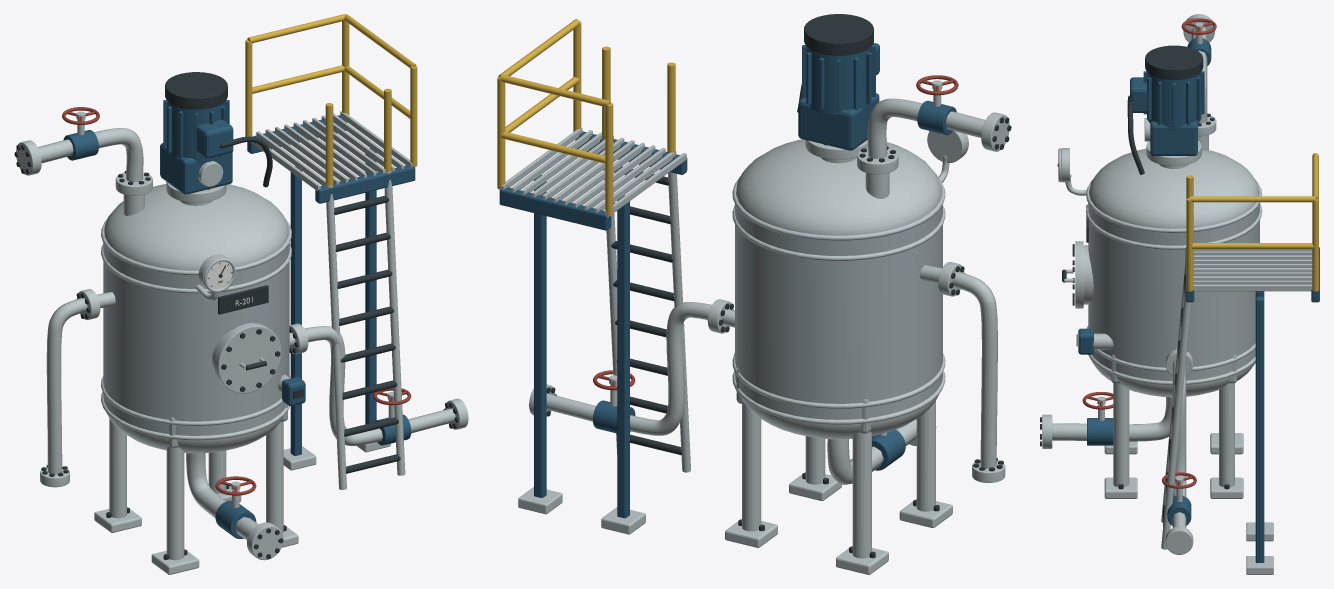
File: tep.glb
3 views of the same model, side by side, from view 1: azimuth 30°, elevation 25°; view 2: azimuth 150°, elevation 25°; view 3: azimuth 270°, elevation 25° (orthographic). The views are drawn at different scales.
Parts seen in each view (by area): view 1: static_Reactor · brushed stainless, static_Reactor · jacket satin, static_Reactor · drive blue, static_Reactor · graphite seals, static_Reactor · safety rail, static_Reactor · valve enamel, static_Reactor · enamel dial; view 2: static_Reactor · brushed stainless, static_Reactor · jacket satin, static_Reactor · drive blue, static_Reactor · safety rail, static_Reactor · graphite seals, static_Reactor · valve enamel; view 3: static_Reactor · brushed stainless, static_Reactor · jacket satin, static_Reactor · drive blue, static_Reactor · safety rail, static_Reactor · graphite seals, static_Reactor · valve enamel.
Boxes of the visible parts, x1,y1,x2,y2 form: static_Reactor · brushed stainless: [16, 111, 468, 574]; static_Reactor · jacket satin: [103, 243, 289, 448]; static_Reactor · drive blue: [63, 100, 415, 538]; static_Reactor · graphite seals: [14, 72, 458, 559]; static_Reactor · safety rail: [245, 14, 417, 186]; static_Reactor · valve enamel: [62, 107, 411, 495]; static_Reactor · enamel dial: [207, 261, 252, 305]; static_Reactor · brushed stainless: [500, 80, 1009, 574]; static_Reactor · jacket satin: [735, 204, 942, 433]; static_Reactor · drive blue: [499, 43, 956, 518]; static_Reactor · safety rail: [497, 19, 675, 215]; static_Reactor · graphite seals: [546, 14, 1011, 558]; static_Reactor · valve enamel: [593, 75, 958, 390]; static_Reactor · brushed stainless: [1042, 14, 1312, 574]; static_Reactor · jacket satin: [1088, 203, 1259, 383]; static_Reactor · drive blue: [1078, 38, 1319, 562]; static_Reactor · safety rail: [1186, 153, 1318, 291]; static_Reactor · graphite seals: [1040, 45, 1229, 526]; static_Reactor · valve enamel: [1082, 18, 1216, 488].
Bounding box in the file's own units: 3.45 × 3.45 × 2.12.
